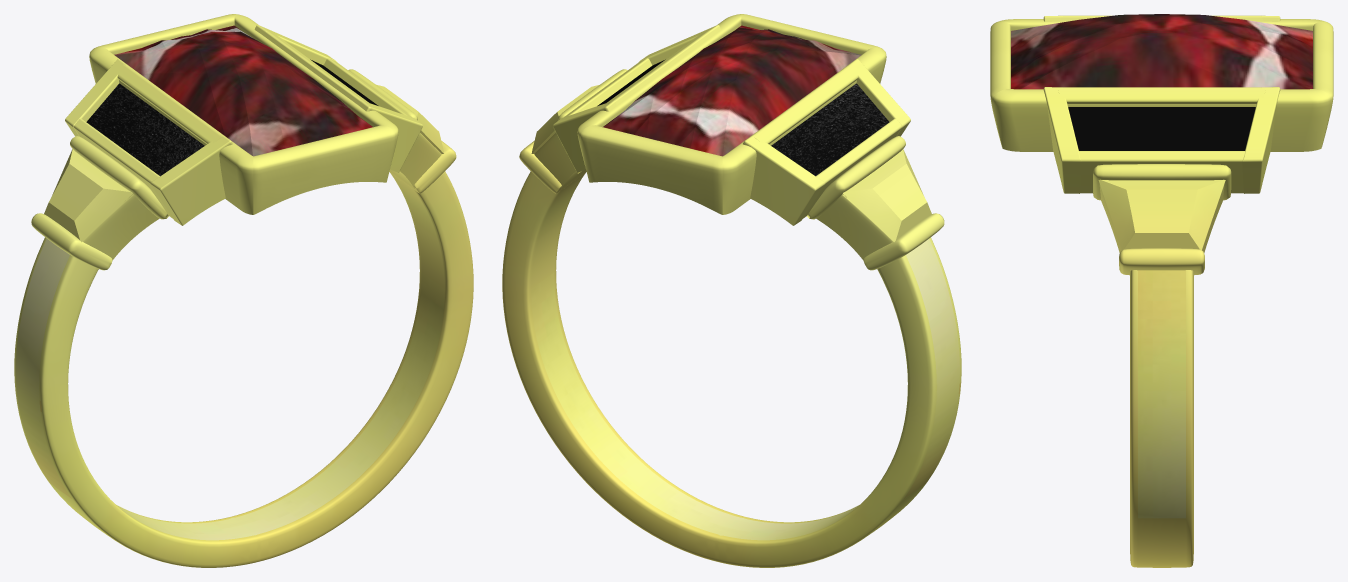
File: ring47.glb
3 renders of one model, left to right at view 1: azimuth 30°, elevation 25°; view 2: azimuth 150°, elevation 25°; view 3: azimuth 270°, elevation 25°, orthographic. The views are drawn at different scales.
Parts seen in each view (by area): view 1: body, core, black; view 2: body, core, black; view 3: body, core, black.
Part boxes in pixels (<box>): body: <box>14,14,473,567</box>; core: <box>114,25,372,156</box>; black: <box>86,59,378,176</box>; body: <box>502,14,961,567</box>; core: <box>603,25,861,156</box>; black: <box>597,59,889,176</box>; body: <box>990,15,1333,567</box>; core: <box>1011,14,1312,89</box>; black: <box>1068,107,1255,150</box>.
Bounding box in the file's own units: 20.74 × 22.68 × 13.57.
Materials: 5 (4 with a texture image).
